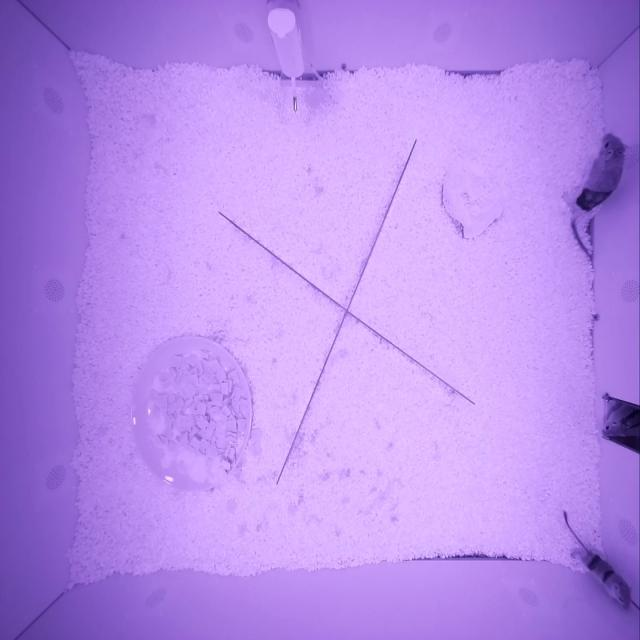adult_back: (572, 133, 630, 214)
pup_h_stripe: (579, 550, 632, 611)
pup_v_stripe: (601, 403, 639, 439)
